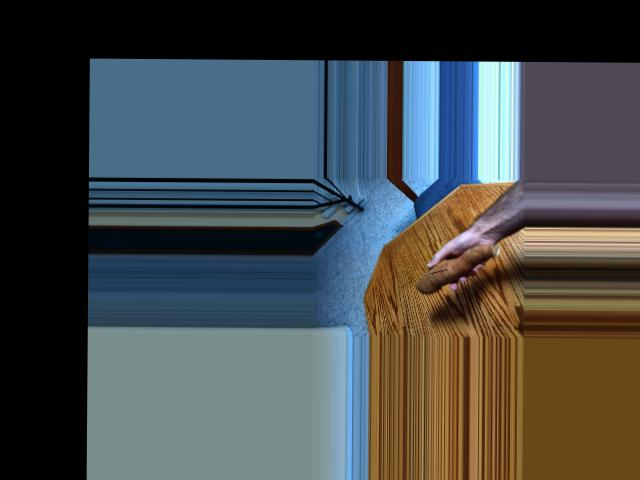sweet_potato: (413, 237, 501, 295)
